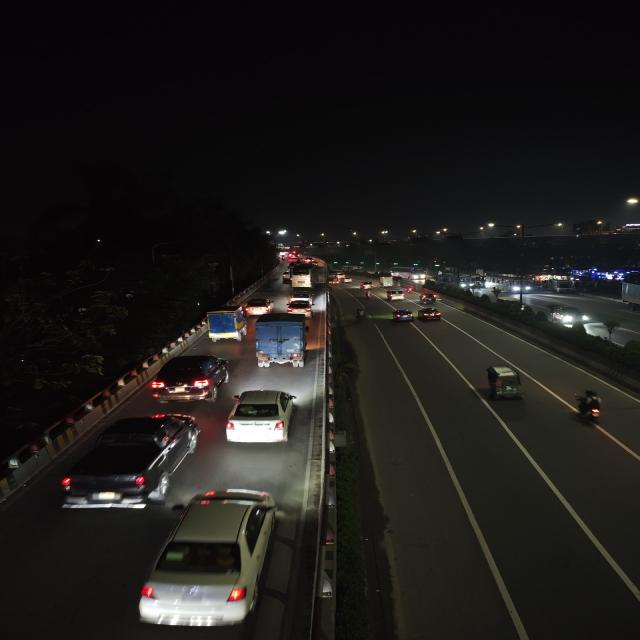bus: (489, 274, 532, 294), (288, 264, 314, 288), (392, 266, 426, 282), (445, 273, 474, 287)
car: (133, 485, 290, 635), (56, 410, 202, 512), (222, 387, 302, 451), (147, 352, 234, 404), (547, 304, 590, 328), (244, 296, 274, 316), (285, 298, 314, 316), (288, 286, 314, 302), (390, 308, 415, 324), (417, 308, 444, 322), (417, 292, 441, 306), (384, 288, 406, 302), (359, 281, 375, 290)
cng: (480, 363, 527, 403)
motorcycle: (572, 389, 611, 430), (352, 306, 368, 324), (365, 290, 373, 297)
truck: (252, 313, 312, 371), (205, 305, 250, 343), (618, 279, 640, 312), (551, 277, 576, 292), (380, 276, 393, 286)
